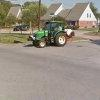Tractor: (24, 18, 75, 53)
